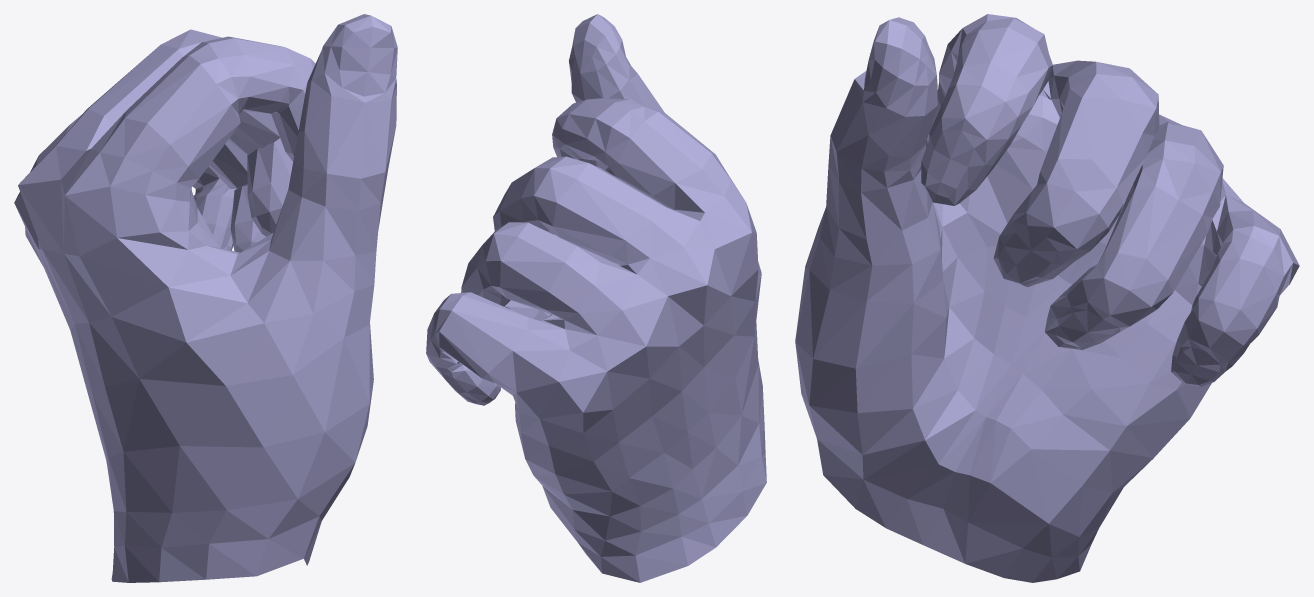
The model's file is frame_0084_source_000084_hand.glb.
3 views of the same model, side by side, from view 1: azimuth 30°, elevation 25°; view 2: azimuth 150°, elevation 25°; view 3: azimuth 270°, elevation 25° (orthographic). The views are drawn at different scales.
Parts seen in each view (by area): view 1: world; view 2: world; view 3: world.
Part boxes in pixels (<box>): world: <box>14,14,397,582</box>; world: <box>426,14,766,582</box>; world: <box>795,14,1299,582</box>.
Bounding box in the file's own units: 0.0648 × 0.1255 × 0.0955.
